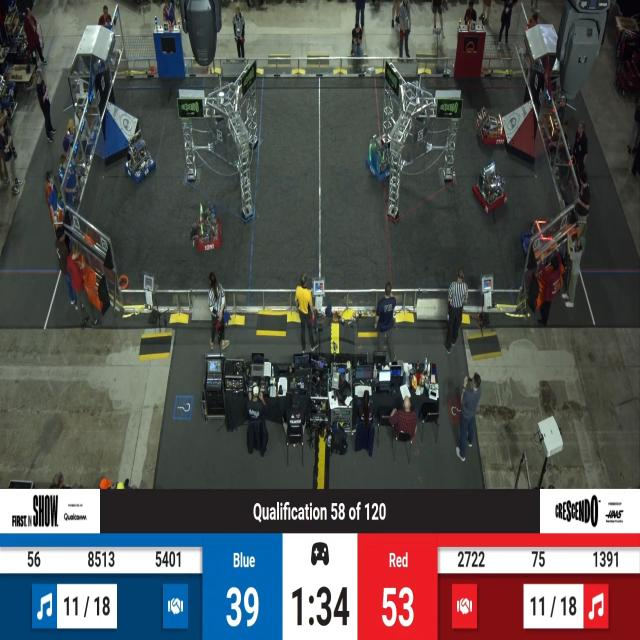Robot: (363, 120, 402, 184), (472, 158, 510, 217), (123, 124, 156, 188), (192, 202, 224, 256), (475, 101, 507, 150)
